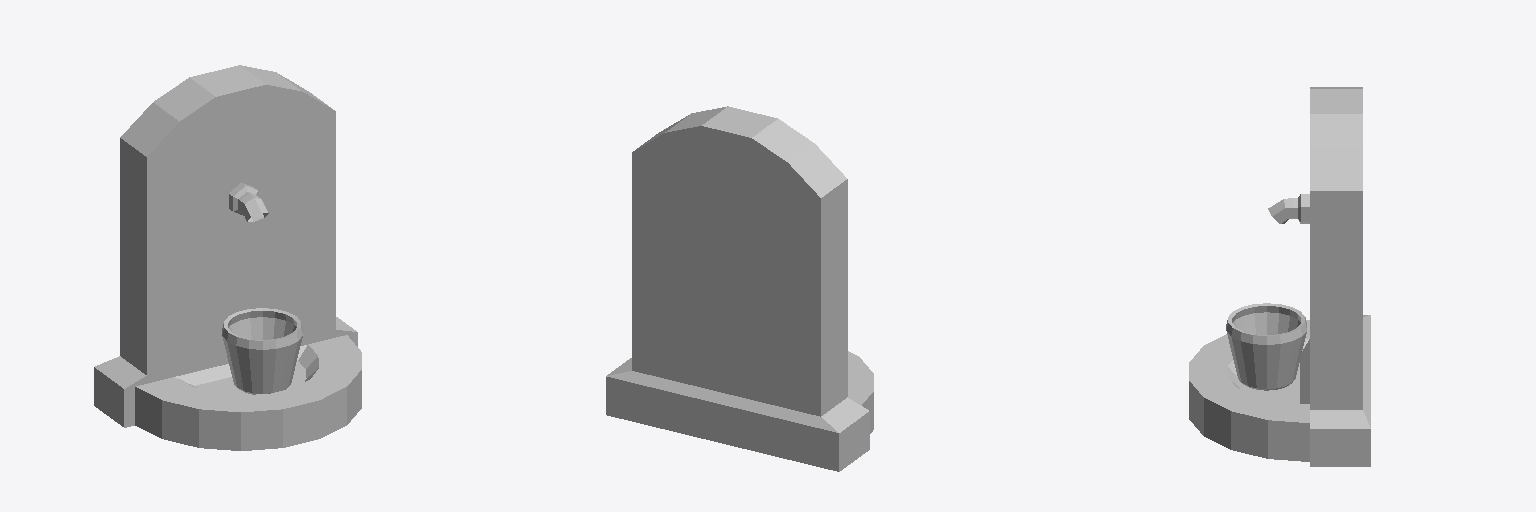
Rendered from fuente.obj.
3 views of the same model, side by side, from view 1: azimuth 30°, elevation 25°; view 2: azimuth 150°, elevation 25°; view 3: azimuth 270°, elevation 25° (orthographic).
Parts seen in each view (by area): view 1: polySurface13 polySurface10, set1 polySurface10 polySurface14, polySurface10 polySurface15; view 2: polySurface13 polySurface10; view 3: polySurface13 polySurface10, set1 polySurface10 polySurface14, polySurface10 polySurface15.
Boxes of the visible parts, x1,y1,x2,y2 form: polySurface13 polySurface10: [94, 65, 361, 450]; set1 polySurface10 polySurface14: [222, 308, 302, 394]; polySurface10 polySurface15: [229, 183, 268, 221]; polySurface13 polySurface10: [606, 106, 873, 471]; polySurface13 polySurface10: [1189, 87, 1370, 466]; set1 polySurface10 polySurface14: [1226, 303, 1306, 390]; polySurface10 polySurface15: [1268, 194, 1309, 223].
Size of the model in its own units: 1.52 by 1.91 by 1.02.